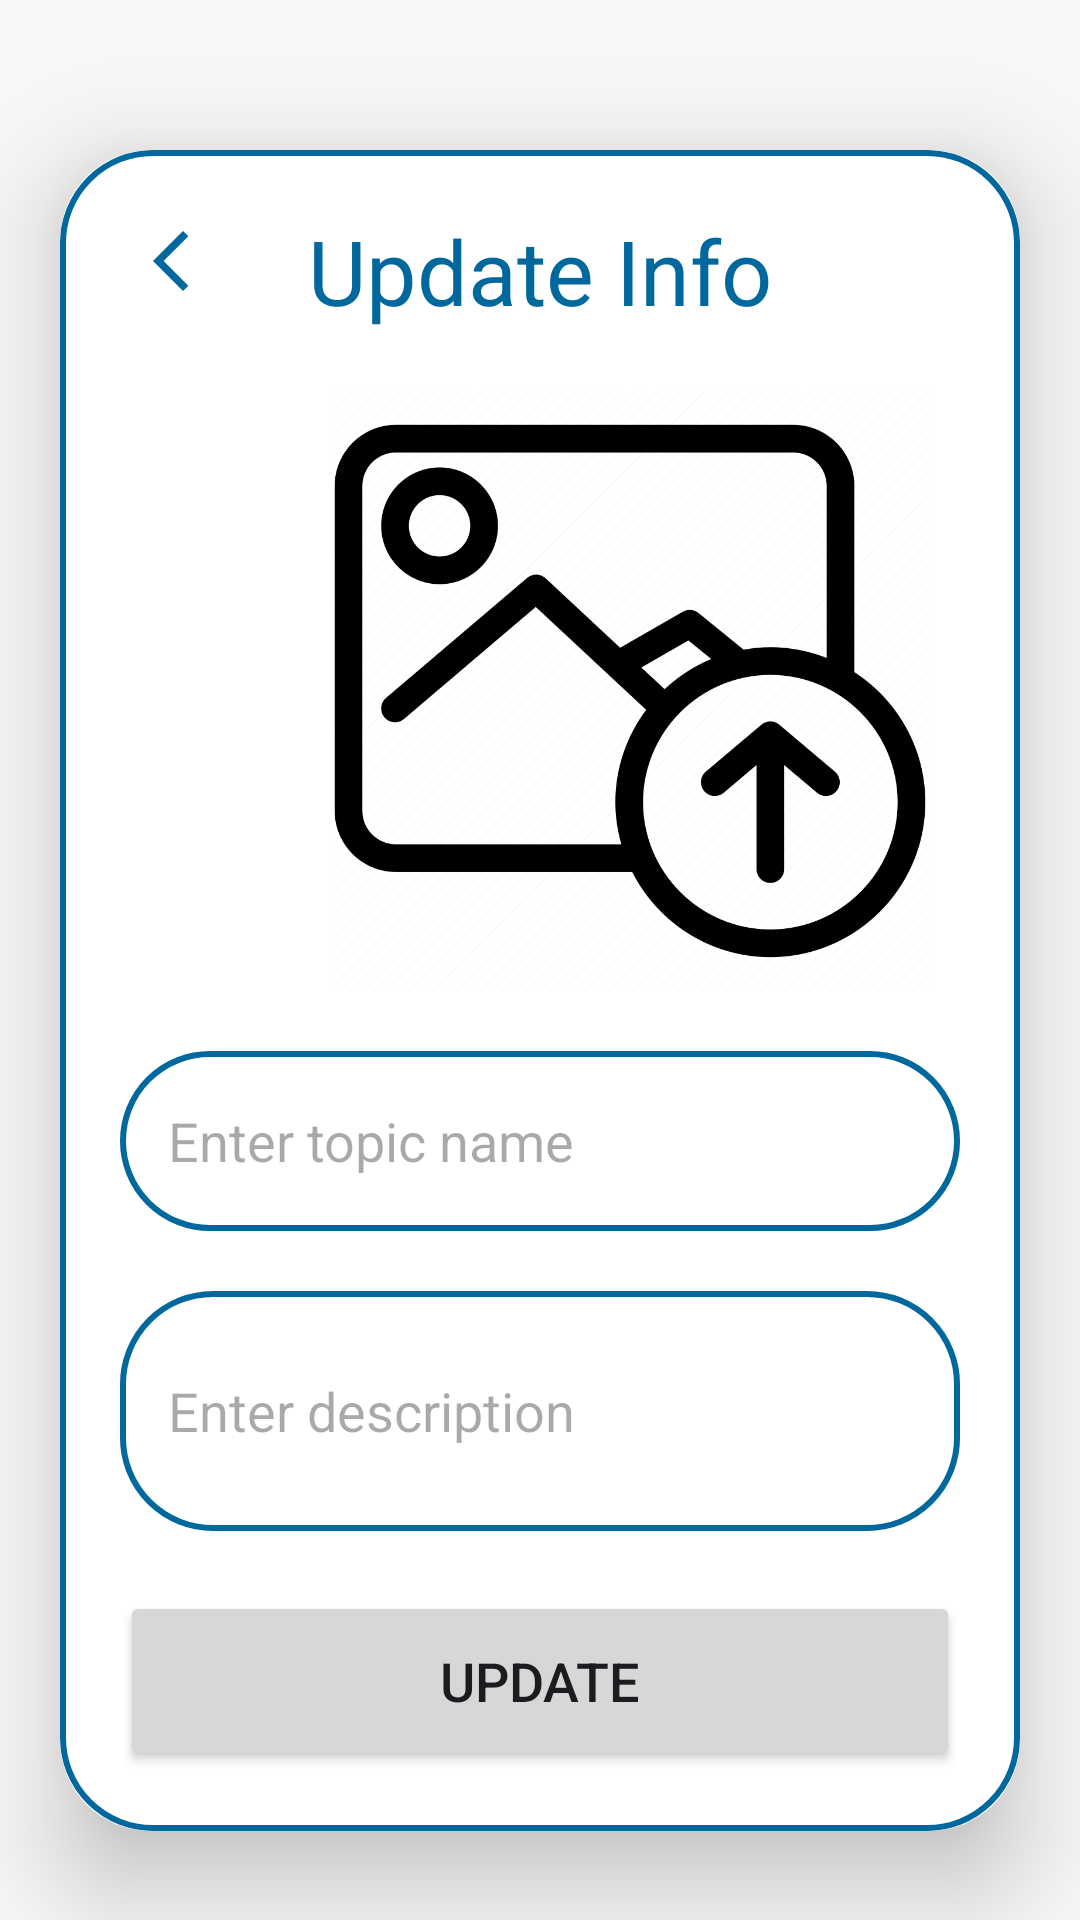

Icons on this 1080w x 1920h Android screen, each with its box as (x1, y1, x2, y2):
back: (153, 231, 188, 291)
